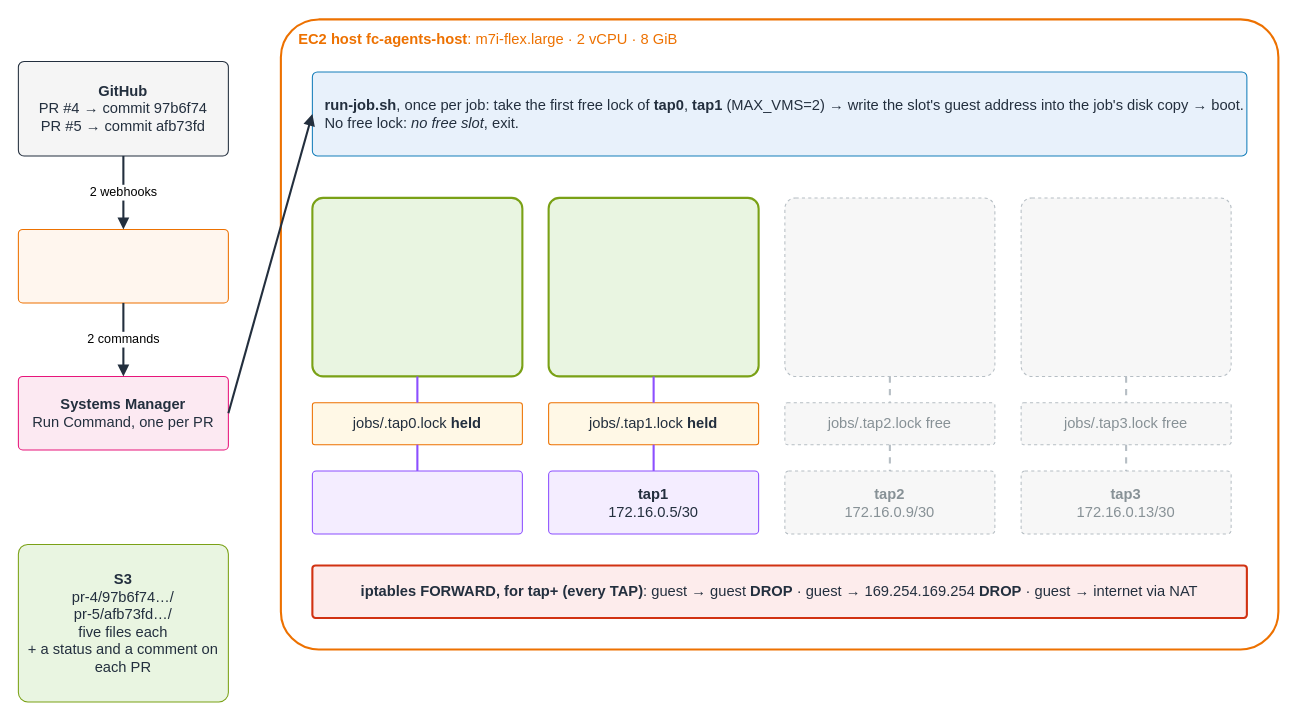
Some shapes in this 1298 by 720 pixel diagram are drawn without their labels. The shapes that lost their labels are listed below. From the top down, each one's centre as x and y in pixels, then its label:
At pixel 122 265: "Lambda Function URL, signature check".
At pixel 417 286: "microVM A guest 172.16.0.2 2 vCPU · 2 GiB 3 agents scan the PR".
At pixel 653 286: "microVM B guest 172.16.0.6 2 vCPU · 2 GiB 3 agents scan the PR".
At pixel 889 286: "free slot (guest 172.16.0.10) ready for a bigger host".
At pixel 1125 286: "free slot (guest 172.16.0.14) ready for a bigger host".
At pixel 416 502: "tap0 172.16.0.1/30".
